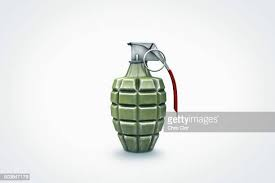bomb: (109, 42, 180, 156)
